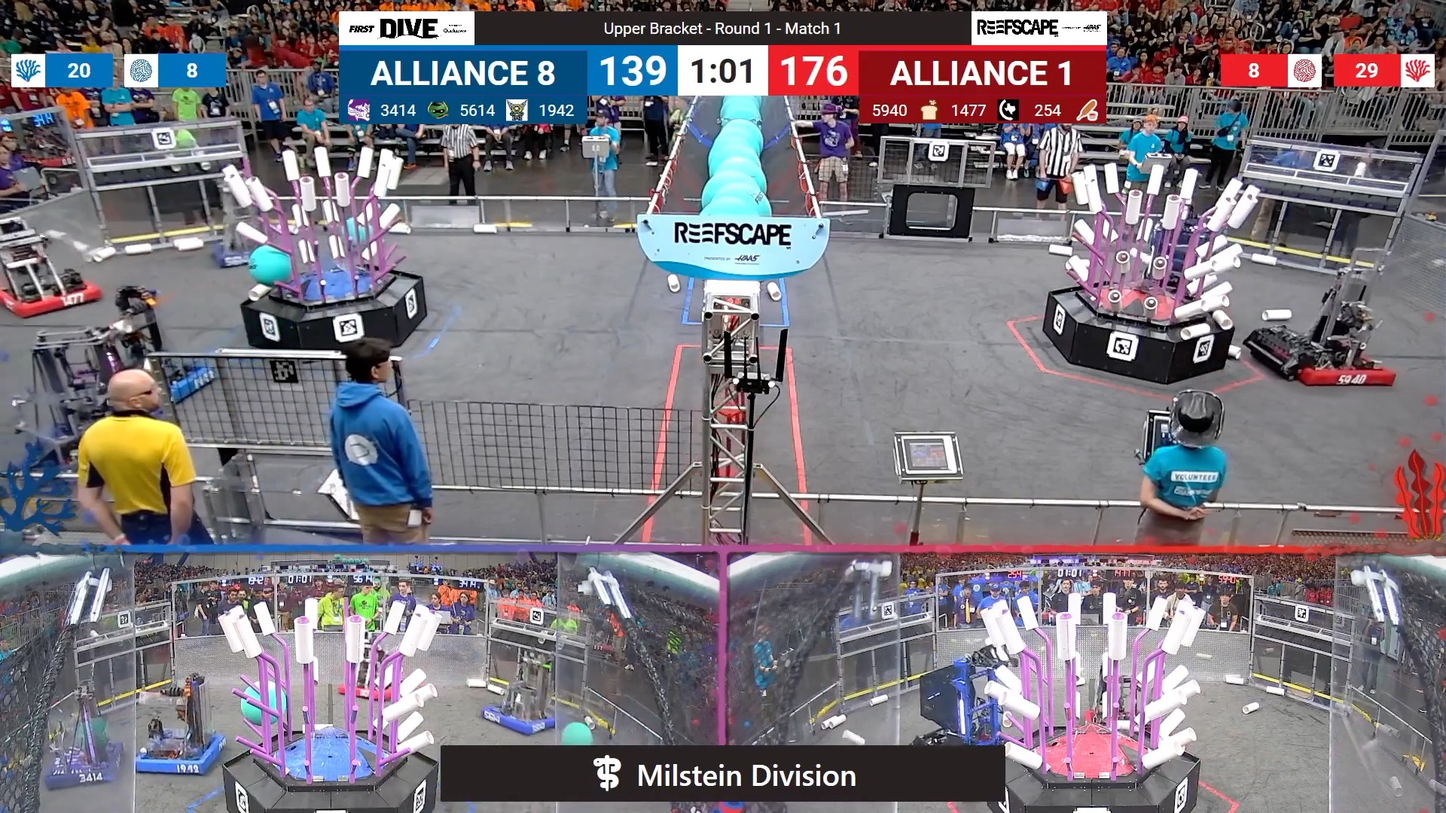bumpers: (32, 341, 220, 430), (1240, 330, 1402, 396), (127, 727, 234, 783), (4, 271, 108, 321), (44, 734, 131, 792), (472, 700, 565, 739), (205, 243, 271, 274)
